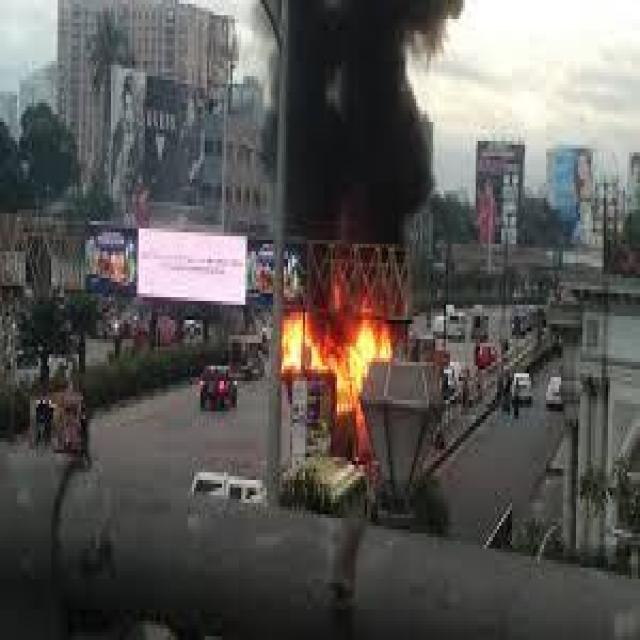fire: (249, 273, 465, 446)
smoke: (230, 0, 465, 305)
